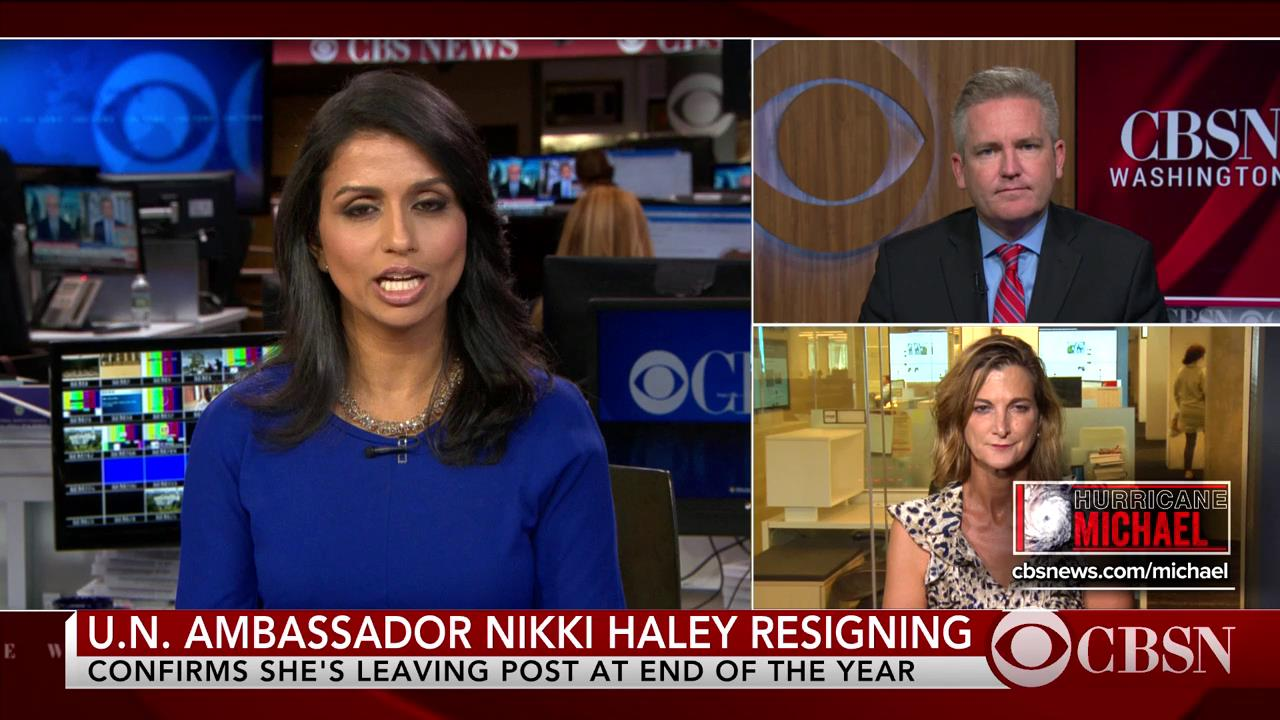C: (690, 347, 737, 416)
CBS NEWS: (345, 38, 519, 62)
CBSN: (1121, 106, 1280, 163), (1076, 623, 1239, 674)
CONFIRMS SHE'S LEAVING POST AT END OF THE YEAR: (85, 657, 918, 683)
E: (2, 638, 20, 661)
HURRICANE: (1073, 486, 1229, 509)
MICHAEL: (1071, 508, 1208, 548)
U.N. AMBASSADOR NIKKI HALEY RESIGNING: (86, 610, 975, 650)
W: (44, 640, 63, 661)
WASHINGTON: (1105, 164, 1280, 191)
cbsnews.com/michael: (1011, 560, 1232, 581)
